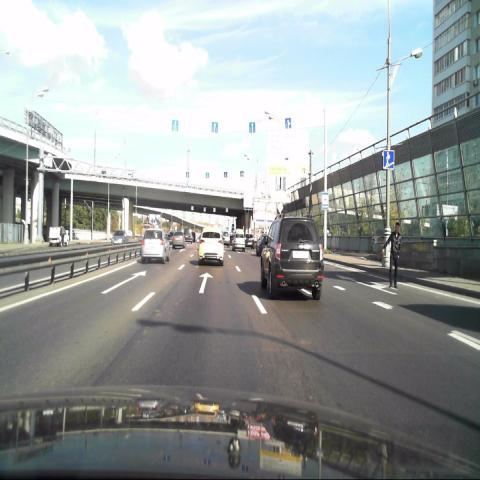5_15_2: (171, 119, 179, 132), (248, 121, 256, 133), (284, 118, 292, 129), (212, 122, 218, 134)
6_6: (382, 150, 395, 170)
